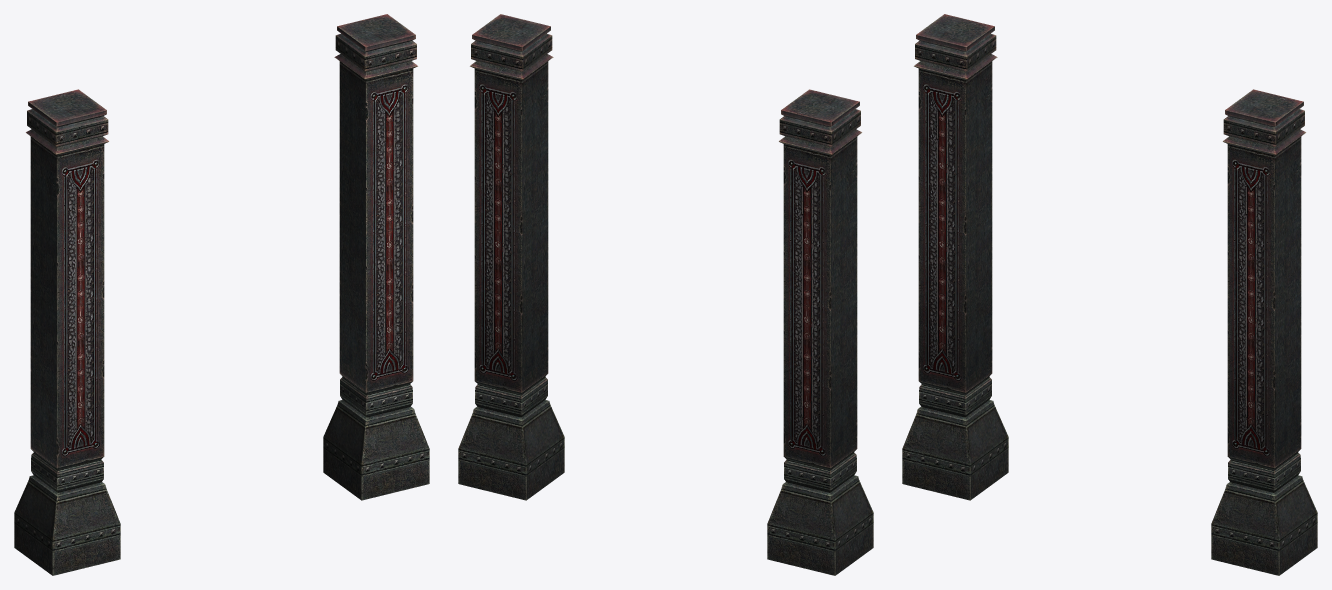
The model's file is flame_door_pillar.fbx.
3 views of the same model, side by side, from view 1: azimuth 30°, elevation 25°; view 2: azimuth 150°, elevation 25°; view 3: azimuth 330°, elevation 25° (orthographic).
Visible parts, largest first — view 1: flame_door_pillar; view 2: flame_door_pillar; view 3: flame_door_pillar.
Part boxes in pixels (bbox=[...]): flame_door_pillar: bbox=[14, 14, 429, 575]; flame_door_pillar: bbox=[458, 14, 873, 575]; flame_door_pillar: bbox=[902, 14, 1317, 575].
Bounding box in the file's own units: 14.45 × 16.41 × 2.55.
